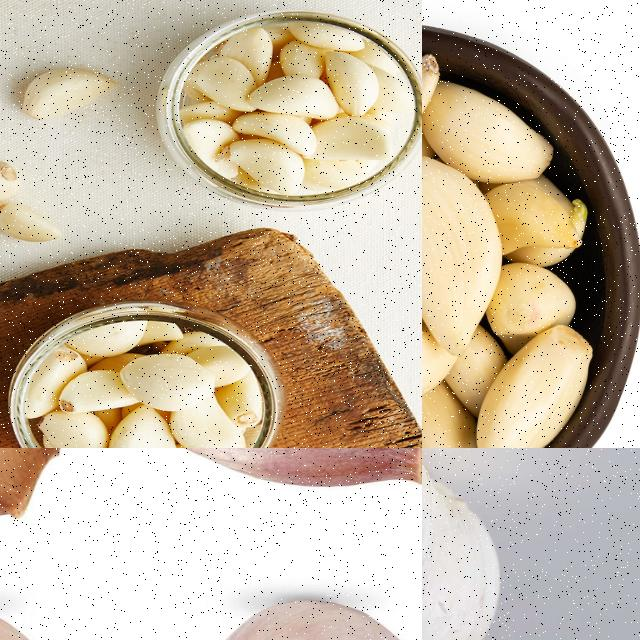garlic: (175, 24, 407, 191), (20, 314, 268, 447), (422, 150, 503, 357), (422, 74, 557, 192), (471, 325, 598, 447), (422, 448, 501, 639), (17, 64, 114, 124), (0, 158, 61, 247), (422, 387, 481, 447)
